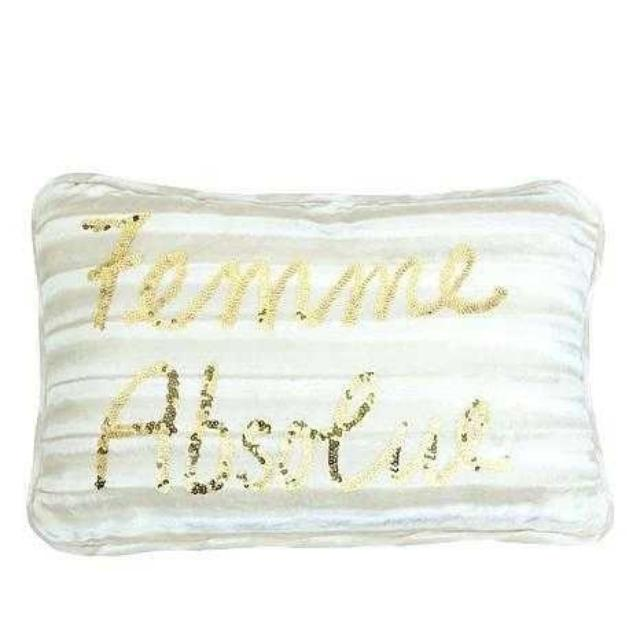pillow: (24, 169, 614, 556)
